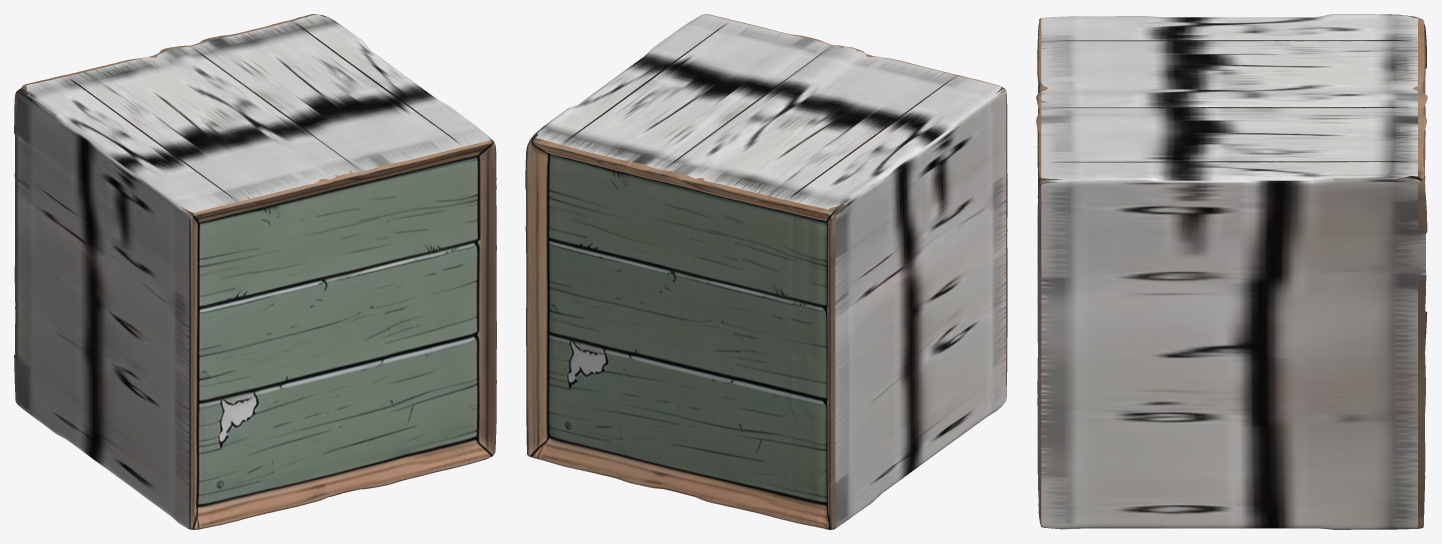
The model's file is wall-clapboard-damaged.glb.
The picture shows the model from 3 angles, left to right: view 1: azimuth 30°, elevation 25°; view 2: azimuth 150°, elevation 25°; view 3: azimuth 270°, elevation 25°; orthographic projection. The views are drawn at different scales.
Visible parts, largest first — view 1: tmph8msd39f.ply; view 2: tmph8msd39f.ply; view 3: tmph8msd39f.ply.
Boxes of the visible parts, bbox=[...] form: tmph8msd39f.ply: bbox=[14, 14, 496, 529]; tmph8msd39f.ply: bbox=[525, 14, 1007, 529]; tmph8msd39f.ply: bbox=[1036, 14, 1427, 529].
Bounding box in the file's own units: 1 × 1 × 1.
Materials: 1 (1 with a texture image).
